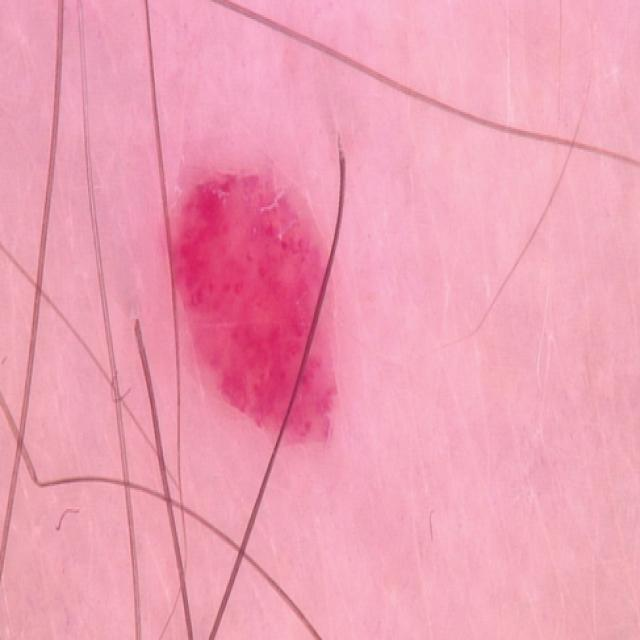Vascular Lesions: (154, 122, 404, 519)
